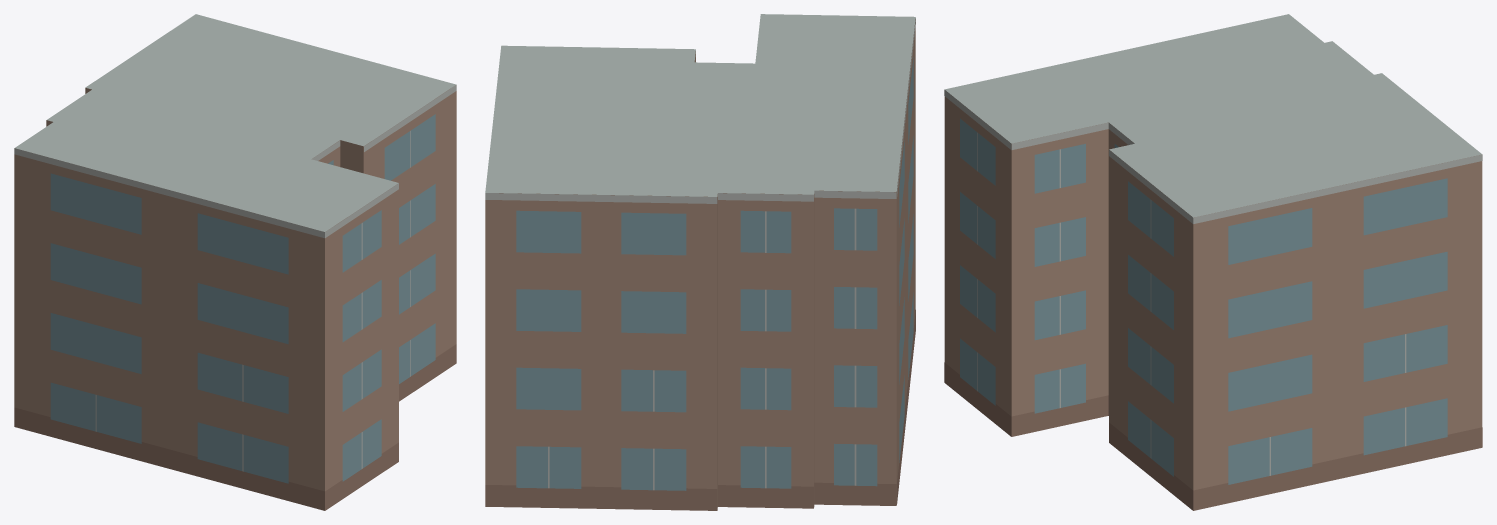
The model's file is survey-upis-32624502.glb.
3 renders of one model, left to right at view 1: azimuth 30°, elevation 25°; view 2: azimuth 150°, elevation 25°; view 3: azimuth 270°, elevation 25°, orthographic. The views are drawn at different scales.
Parts seen in each view (by area): view 1: survey-upis-32624502.tmp; view 2: survey-upis-32624502.tmp; view 3: survey-upis-32624502.tmp.
Part boxes in pixels (<box>): survey-upis-32624502.tmp: <box>14,14,456,510</box>; survey-upis-32624502.tmp: <box>485,14,915,510</box>; survey-upis-32624502.tmp: <box>944,14,1482,510</box>.
Bounding box in the file's own units: 16.17 × 10.85 × 18.05.
